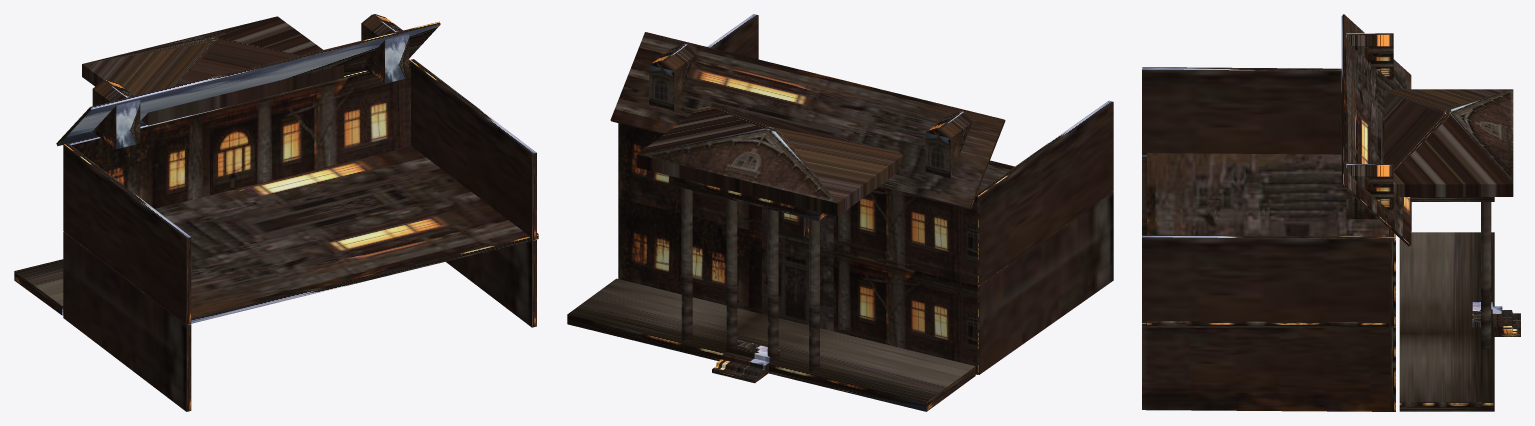
Rendered from home.glb.
3 renders of one model, left to right at view 1: azimuth 30°, elevation 25°; view 2: azimuth 150°, elevation 25°; view 3: azimuth 270°, elevation 25°, orthographic. The views are drawn at different scales.
Parts seen in each view (by area): view 1: Cube.013, Cube.001, Cube.010, Cube.004, Cube.011, Cube.008, Cube.002, Cube.009, Cube.006, Cube.007, Cube.003; view 2: Cube, Cube.002, Cube.003, Cube.004, Cube.001, Cube.010, Cube.011, Cube.007, Cube.006, Cylinder.003, Cylinder, Cylinder.002 (+4 smaller); view 3: Cube.008, Cube.009, Cube.013, Cube.010, Cube.003, Cube.004, Cube.002, Cube.006, Cylinder.003, Cube.007, Cube.005, Cube.001 (+2 smaller).
Boxes of the visible parts, left/top/right/bottom form: Cube.013: left=155, top=146, right=538, bottom=323; Cube.001: left=68, top=61, right=410, bottom=208; Cube.010: left=63, top=143, right=191, bottom=324; Cube.004: left=82, top=16, right=343, bottom=125; Cube.011: left=63, top=231, right=191, bottom=411; Cube.008: left=409, top=59, right=536, bottom=240; Cube.002: left=56, top=21, right=440, bottom=146; Cube.009: left=446, top=239, right=536, bottom=327; Cube.006: left=361, top=14, right=409, bottom=83; Cube.007: left=92, top=79, right=140, bottom=149; Cube.003: left=14, top=259, right=63, bottom=315; Cube: left=618, top=198, right=978, bottom=374; Cube.002: left=610, top=32, right=1005, bottom=208; Cube.003: left=567, top=278, right=975, bottom=411; Cube.004: left=636, top=105, right=903, bottom=221; Cube.001: left=618, top=123, right=978, bottom=285; Cube.010: left=976, top=100, right=1113, bottom=285; Cube.011: left=978, top=191, right=1113, bottom=374; Cube.007: left=925, top=111, right=972, bottom=177; Cube.006: left=649, top=43, right=695, bottom=110; Cylinder.003: left=681, top=188, right=692, bottom=341; Cylinder: left=767, top=209, right=778, bottom=362; Cylinder.002: left=726, top=199, right=737, bottom=347; Cube.008: left=1142, top=235, right=1394, bottom=325; Cube.009: left=1142, top=323, right=1390, bottom=411; Cube.013: left=1147, top=153, right=1388, bottom=327; Cube.010: left=1142, top=67, right=1341, bottom=155; Cube.003: left=1399, top=232, right=1494, bottom=411; Cube.004: left=1384, top=89, right=1513, bottom=201; Cube.002: left=1341, top=14, right=1411, bottom=246; Cube.006: left=1346, top=164, right=1393, bottom=219; Cylinder.003: left=1481, top=202, right=1491, bottom=349; Cube.007: left=1346, top=33, right=1393, bottom=83; Cube.005: left=1472, top=302, right=1520, bottom=336; Cube.001: left=1390, top=230, right=1395, bottom=326.
Bounding box in the file's own units: 17.22 × 10.66 × 16.01.
Materials: 1 (1 with a texture image).
